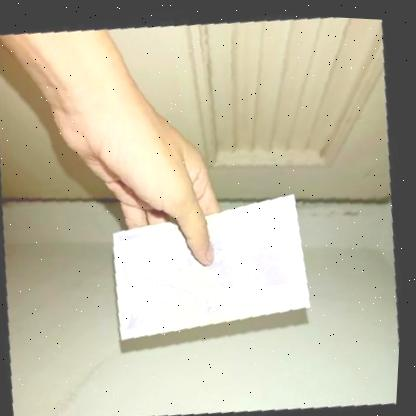two_hundred-back-vef: (100, 180, 321, 348)
